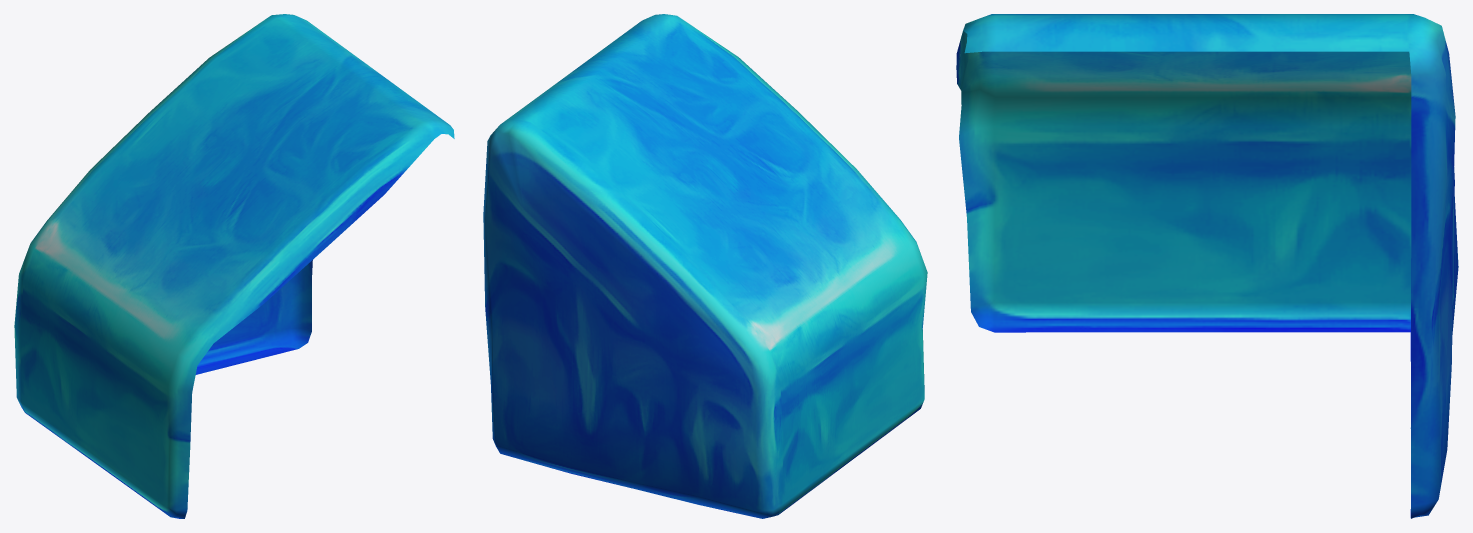
Rendered from IceCube1v1.fbx.
The picture shows the model from 3 angles, left to right: view 1: azimuth 30°, elevation 25°; view 2: azimuth 150°, elevation 25°; view 3: azimuth 270°, elevation 25°; orthographic projection. The views are drawn at different scales.
Parts seen in each view (by area): view 1: ice_cube_1v1; view 2: ice_cube_1v1; view 3: ice_cube_1v1.
Part boxes in pixels (x1,y1,x2,y2): ice_cube_1v1: [14, 14, 454, 518]; ice_cube_1v1: [483, 14, 927, 518]; ice_cube_1v1: [956, 14, 1458, 518].
Size of the model in its own units: 96.17 by 105 by 97.61.
